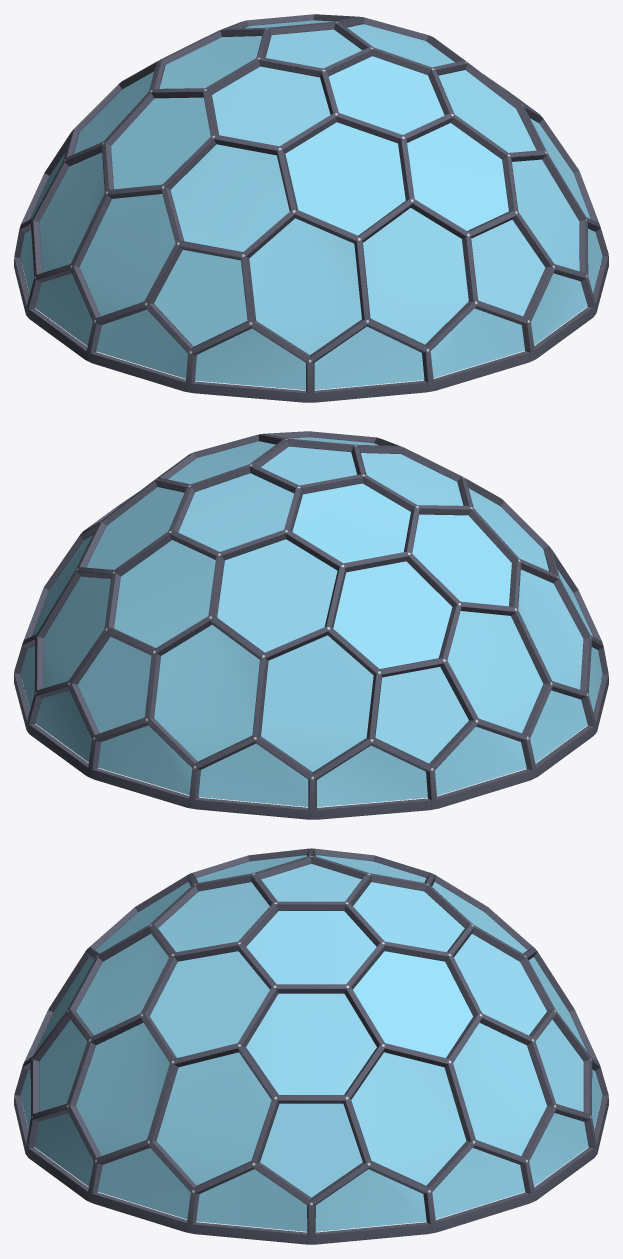
The model's file is Biodome_02.FBX.
3 views of the same model, one above another, from view 1: azimuth 30°, elevation 25°; view 2: azimuth 150°, elevation 25°; view 3: azimuth 270°, elevation 25° (orthographic).
Parts seen in each view (by area): view 1: Biodome_02; view 2: Biodome_02; view 3: Biodome_02.
Part boxes in pixels (x1,y1,x2,y2): Biodome_02: (14,14,608,402); Biodome_02: (14,431,608,819); Biodome_02: (14,848,608,1244).
Size of the model in its own units: 26.43 by 11.41 by 26.21.
Materials: 2 (1 with a texture image).
